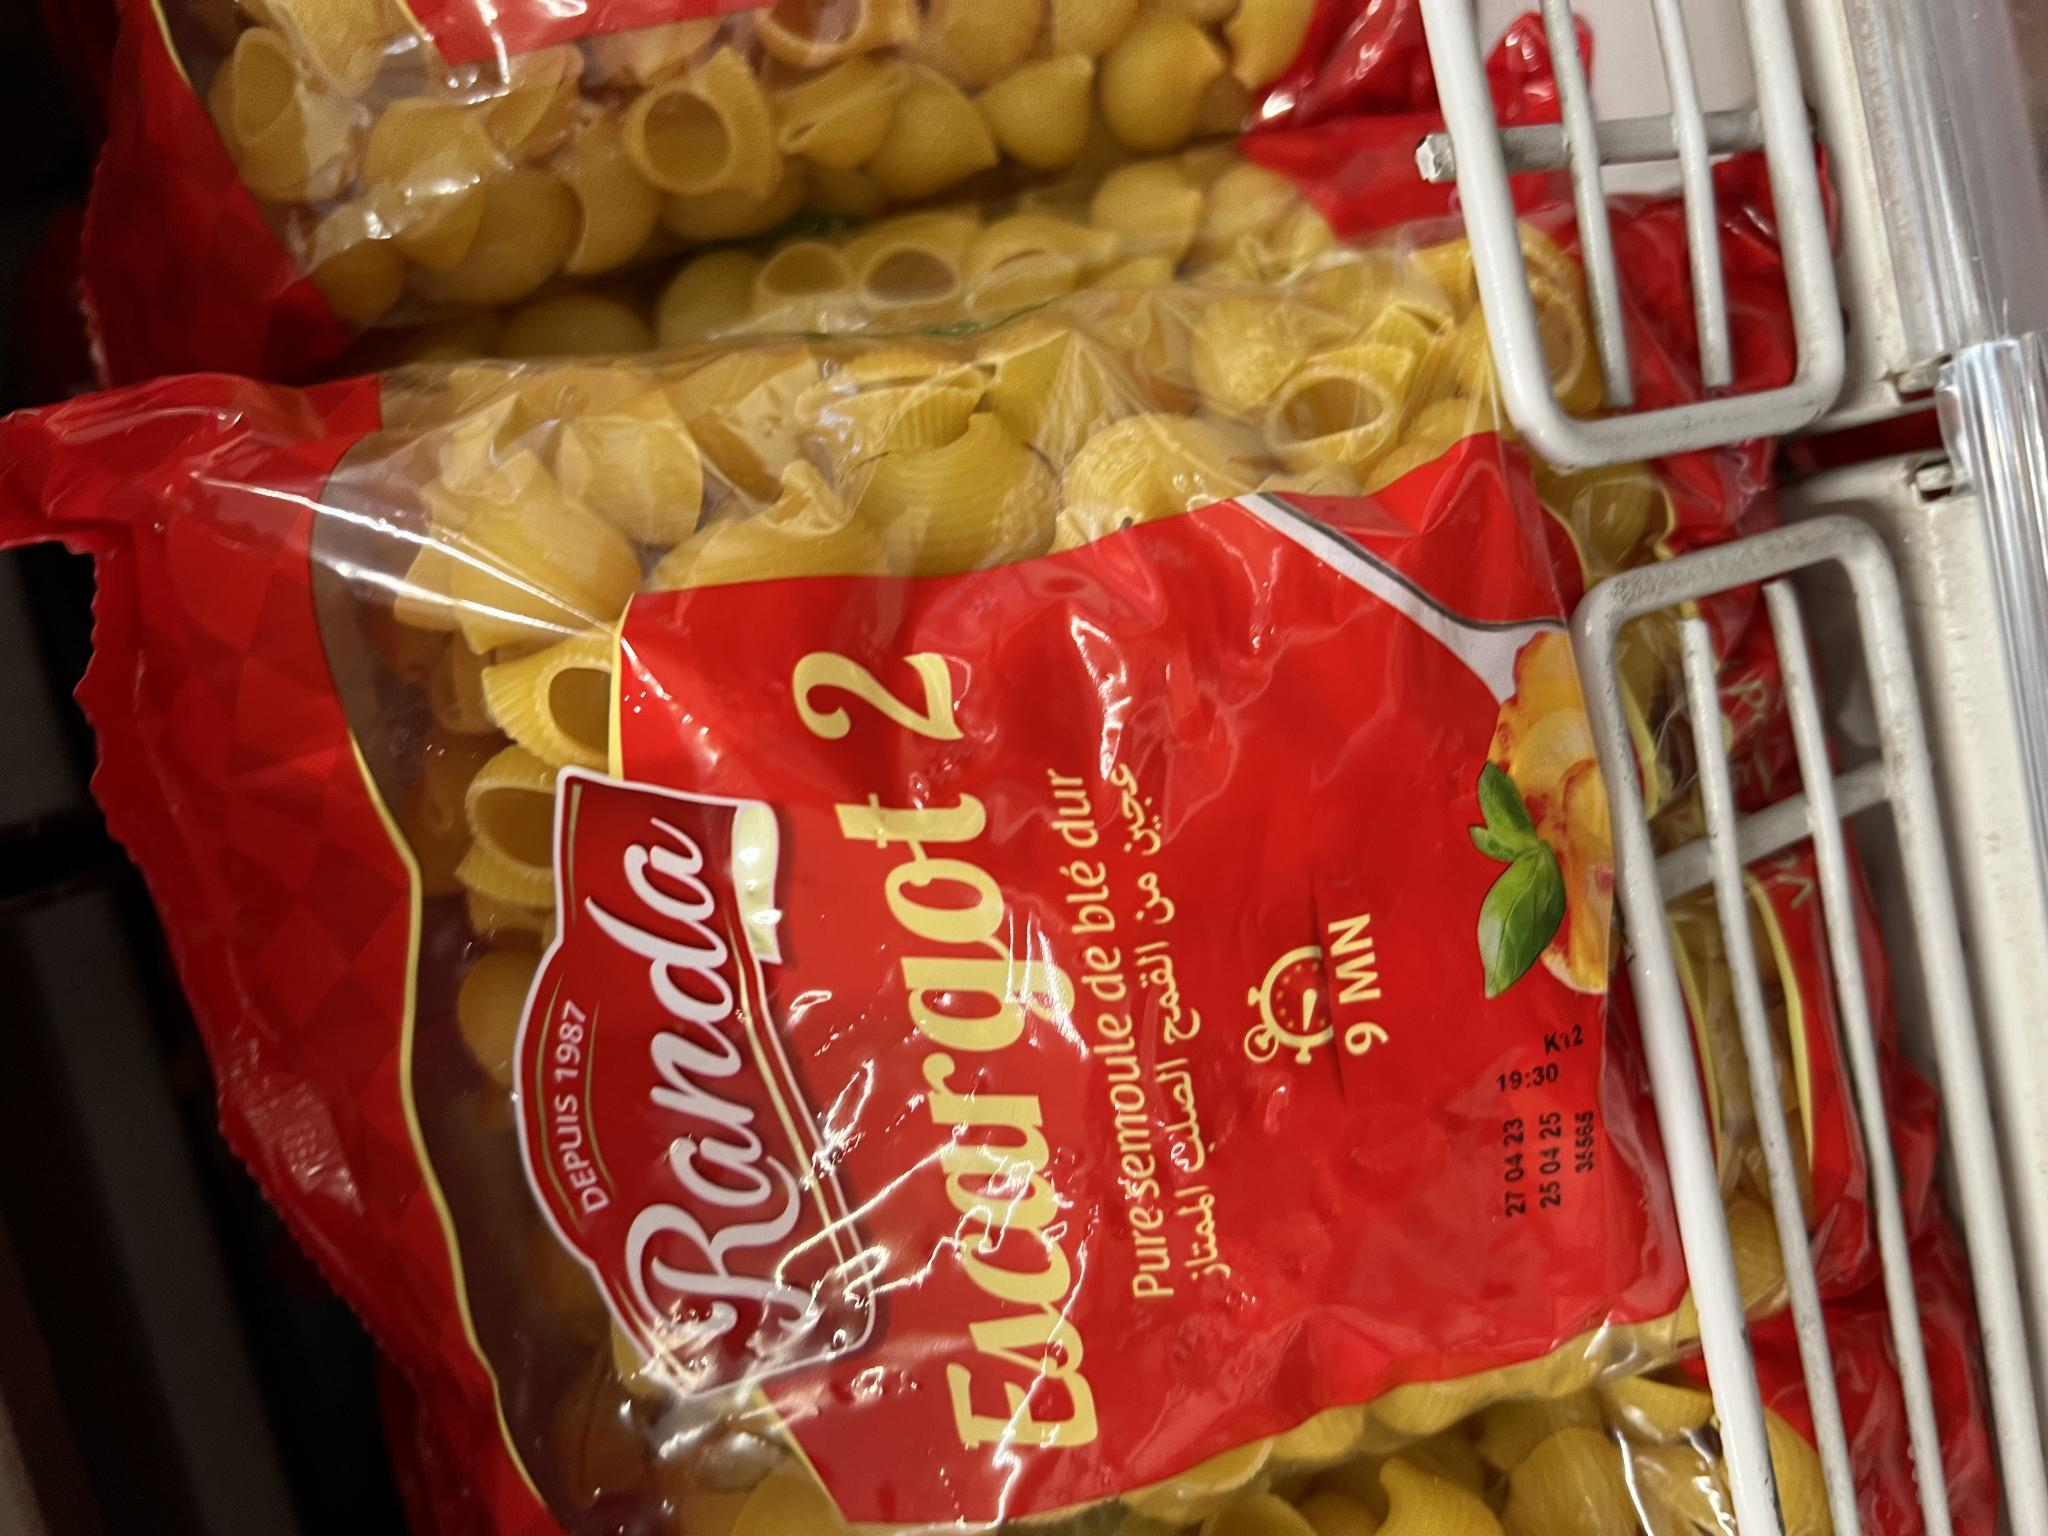Escargot: (23, 231, 1822, 1530), (169, 23, 1393, 281)
